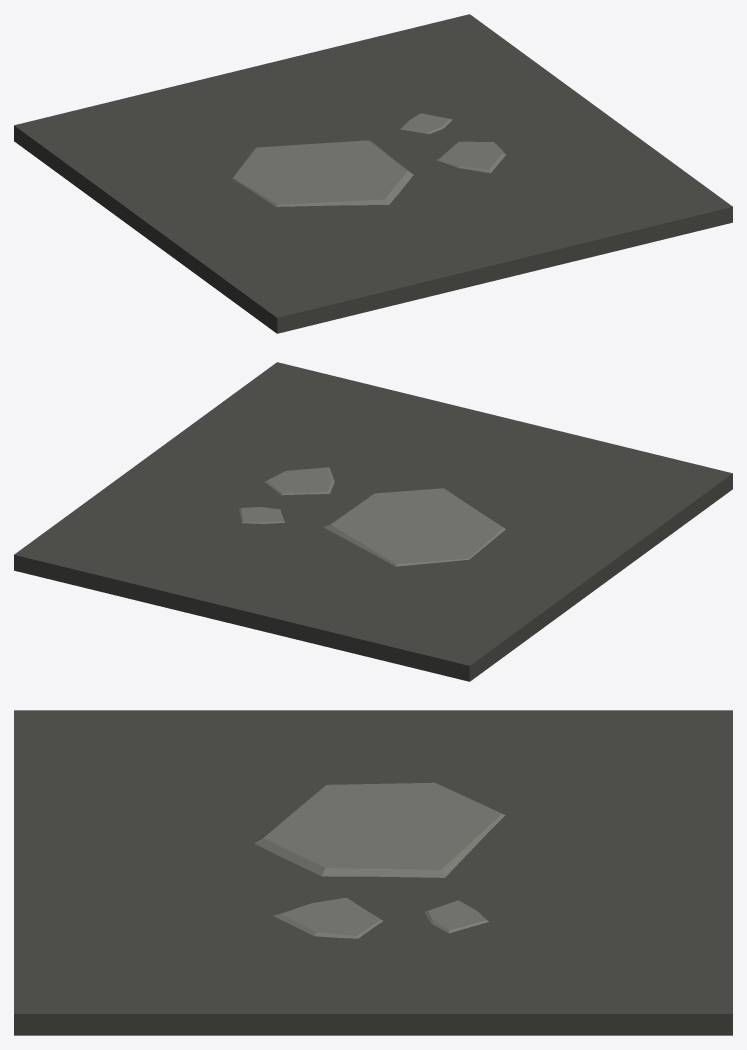
Rendered from Floor_2.fbx.
The picture shows the model from 3 angles, top to bottom: view 1: azimuth 30°, elevation 25°; view 2: azimuth 150°, elevation 25°; view 3: azimuth 270°, elevation 25°; orthographic projection. The views are drawn at different scales.
Visible parts, largest first — view 1: Floor_2; view 2: Floor_2; view 3: Floor_2.
Boxes of the visible parts, box(x1,y1,x2,y2) form: Floor_2: box(14, 14, 732, 333); Floor_2: box(14, 362, 732, 681); Floor_2: box(14, 710, 732, 1035).
Bounding box in the file's own units: 300 × 12.37 × 300.
